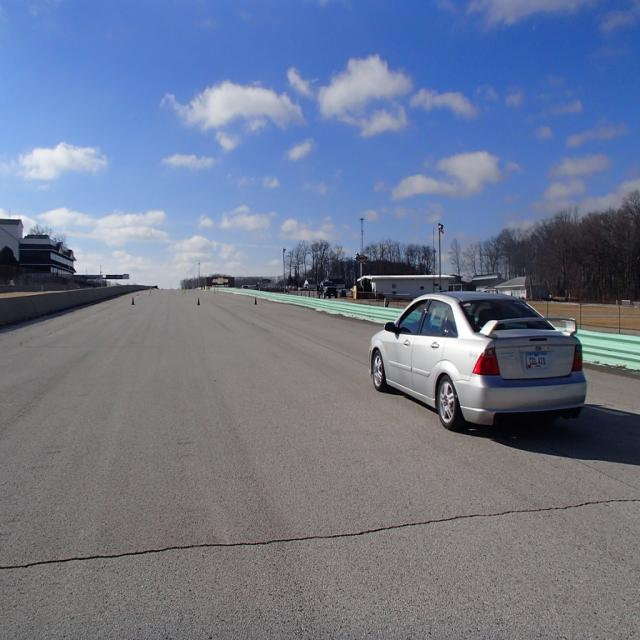car: (368, 290, 590, 430)
